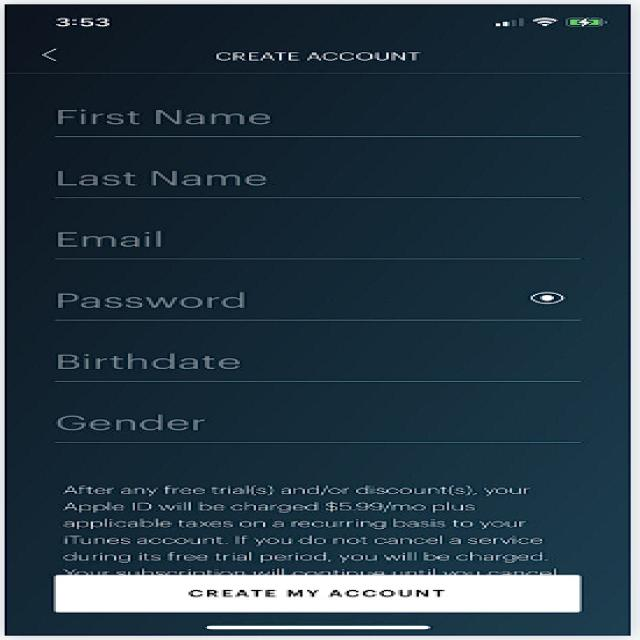button: (30, 568, 605, 619)
icon button: (24, 40, 79, 68)
input: (24, 332, 605, 390), (30, 210, 598, 268), (30, 396, 612, 452), (32, 148, 598, 204), (24, 91, 594, 143), (30, 276, 605, 326)
text: (56, 478, 577, 560), (207, 44, 440, 73)
